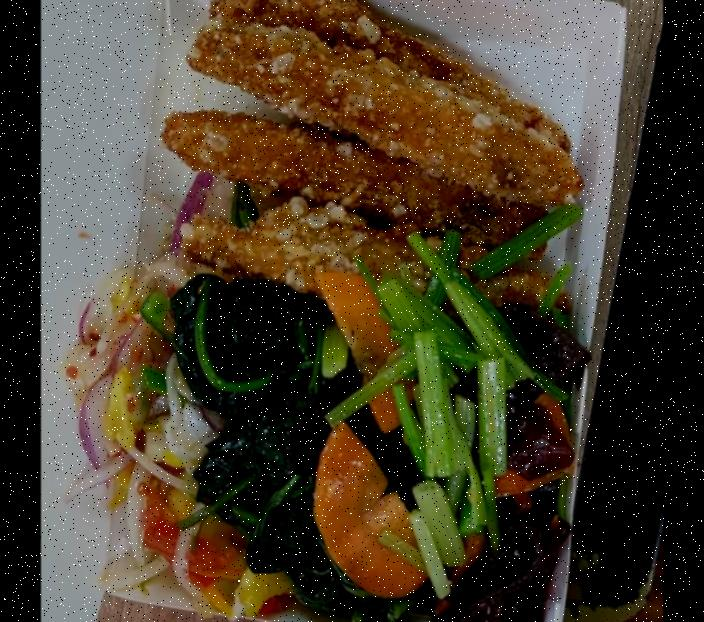box: (90, 0, 640, 622)
fried spanish mackerel: (161, 0, 577, 308)
side dish: (313, 255, 596, 622), (176, 275, 332, 622), (86, 257, 208, 596)
